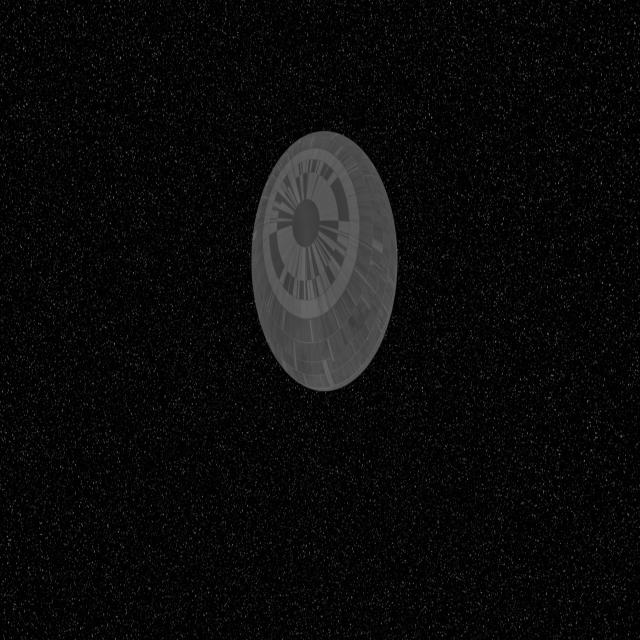death-stars: (251, 132, 398, 393)
